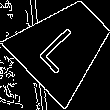L_NE: (35, 17, 93, 74)
